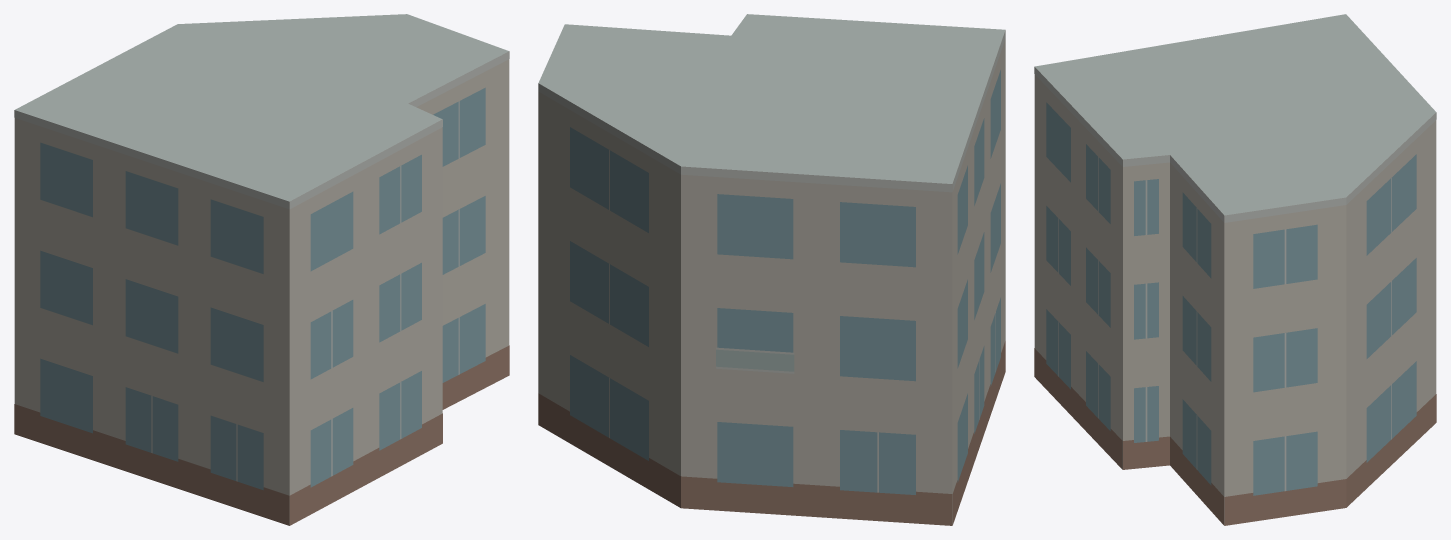
Rendered from survey-upis-32900261.glb.
3 renders of one model, left to right at view 1: azimuth 30°, elevation 25°; view 2: azimuth 150°, elevation 25°; view 3: azimuth 270°, elevation 25°, orthographic. The views are drawn at different scales.
Parts seen in each view (by area): view 1: survey-upis-32900261.tmp; view 2: survey-upis-32900261.tmp; view 3: survey-upis-32900261.tmp.
Part boxes in pixels (x1,y1,x2,y2): survey-upis-32900261.tmp: (14,14,509,525); survey-upis-32900261.tmp: (538,14,1005,525); survey-upis-32900261.tmp: (1034,14,1436,525).
Bounding box in the file's own units: 14.07 × 10.1 × 11.86.
